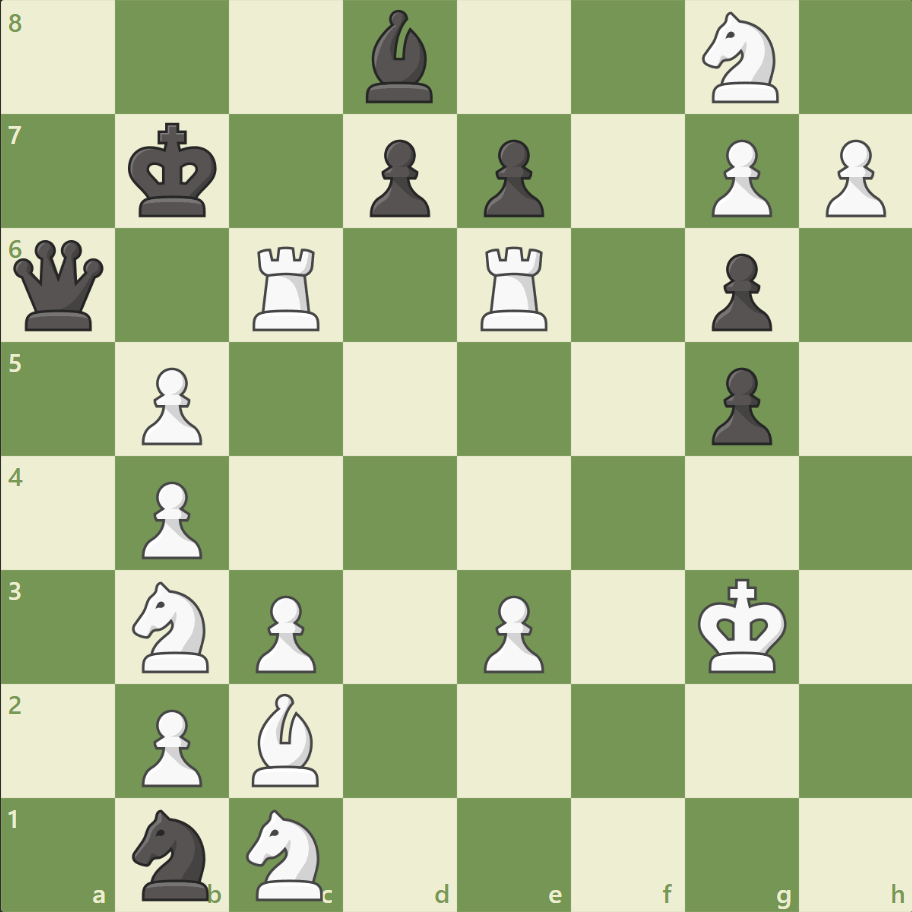B: (244, 687, 328, 790)
K: (692, 571, 792, 679)
N: (124, 575, 222, 677), (692, 7, 789, 110), (238, 802, 335, 904)
P: (701, 132, 776, 223), (133, 359, 208, 450), (133, 473, 208, 564), (247, 586, 322, 677), (474, 586, 549, 677), (133, 700, 208, 791), (815, 132, 889, 223)
R: (246, 239, 329, 336), (473, 239, 556, 336)
b: (358, 6, 442, 109)
k: (124, 117, 224, 225)
n: (124, 802, 222, 904)
p: (474, 132, 549, 223), (701, 246, 776, 337), (701, 359, 776, 450), (361, 132, 435, 223)
q: (10, 236, 109, 335)
